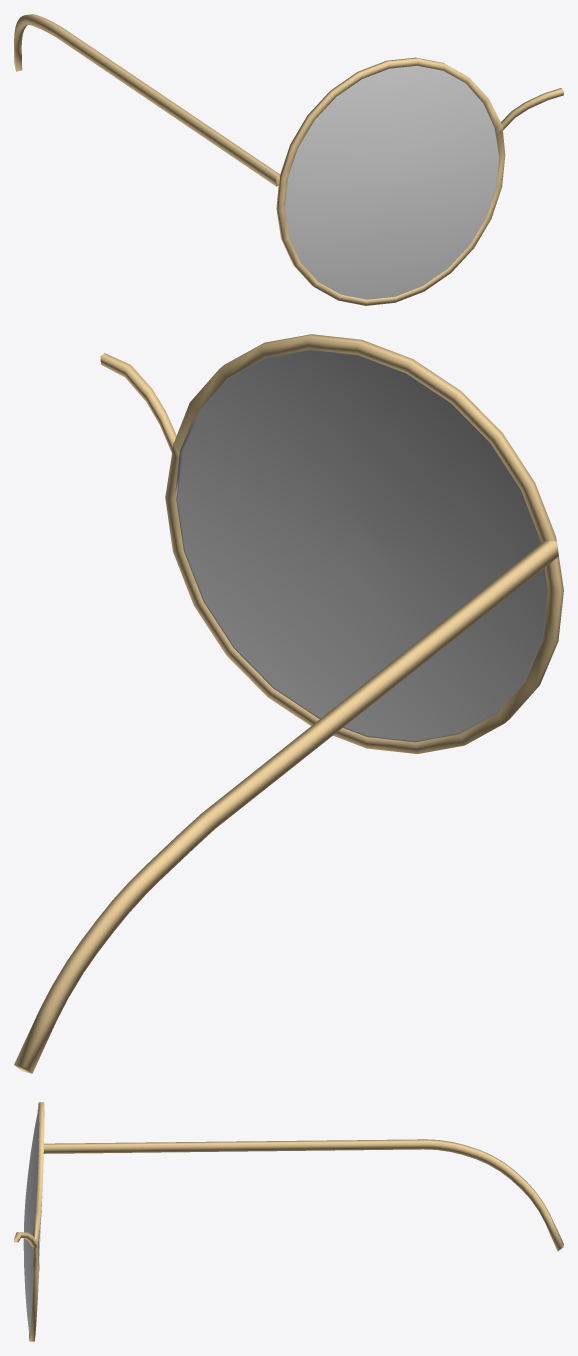
Rendered from glasses.glb.
3 views of the same model, one above another, from view 1: azimuth 30°, elevation 25°; view 2: azimuth 150°, elevation 25°; view 3: azimuth 270°, elevation 25° (orthographic). The views are drawn at different scales.
Visible parts, largest first — view 1: glasses lenses, glasses frame; view 2: glasses lenses, glasses frame; view 3: glasses frame, glasses lenses.
Part boxes in pixels (x1,y1,x2,y2): glasses lenses: [285, 65, 499, 299]; glasses frame: [14, 14, 563, 305]; glasses lenses: [175, 349, 548, 742]; glasses frame: [14, 334, 563, 1073]; glasses frame: [14, 1102, 563, 1341]; glasses lenses: [23, 1108, 40, 1334].
Bounding box in the file's own units: 0.0659 × 0.0521 × 0.1191.
